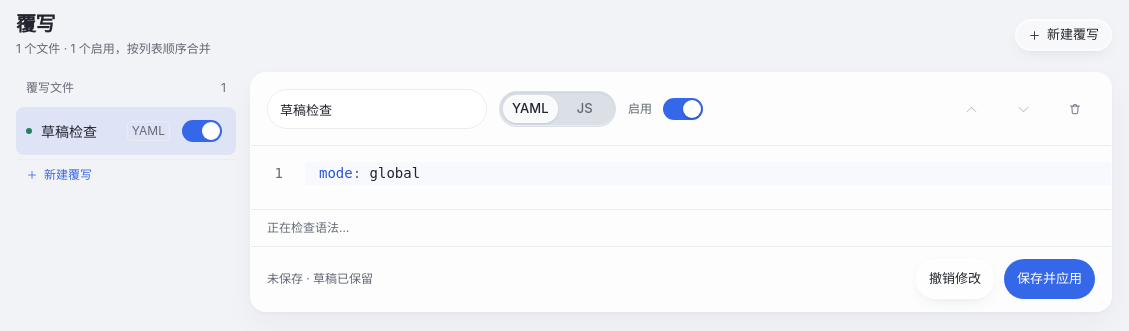
Test: 覆写未保存状态是实时区域，撤销恢复已保存文本
Expected: the message "未保存 · 草稿已保留" is shown, [267,270,373,288]
What coordinates should you click on to do the following:
click the button "撤销修改"
I would click on:
 (955, 279)
Its box is [916,259,994,299].
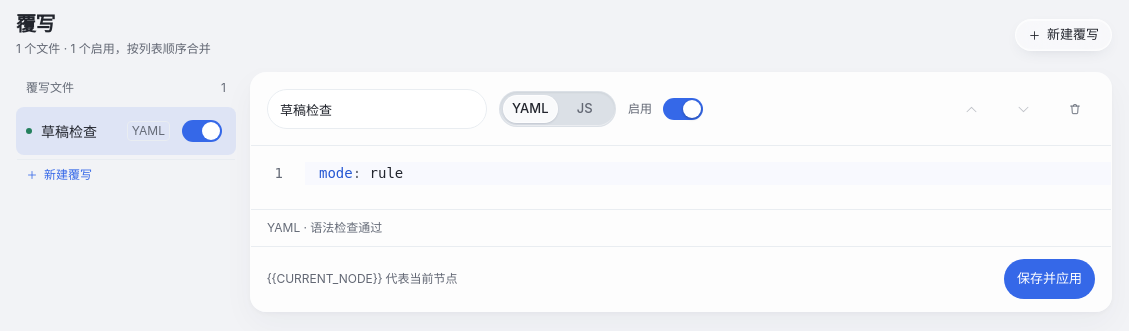
Expected: the text box labelled "mode: rule" is shown, [305,162,1111,185]
